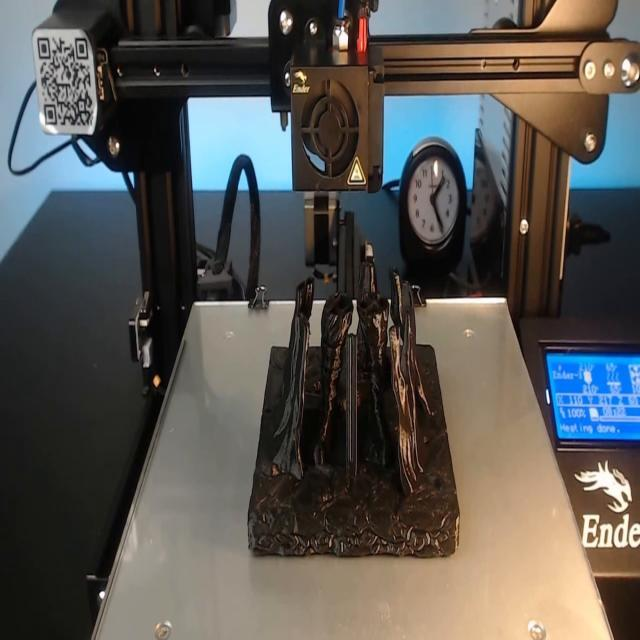Without deffect: (247, 261, 480, 574)
